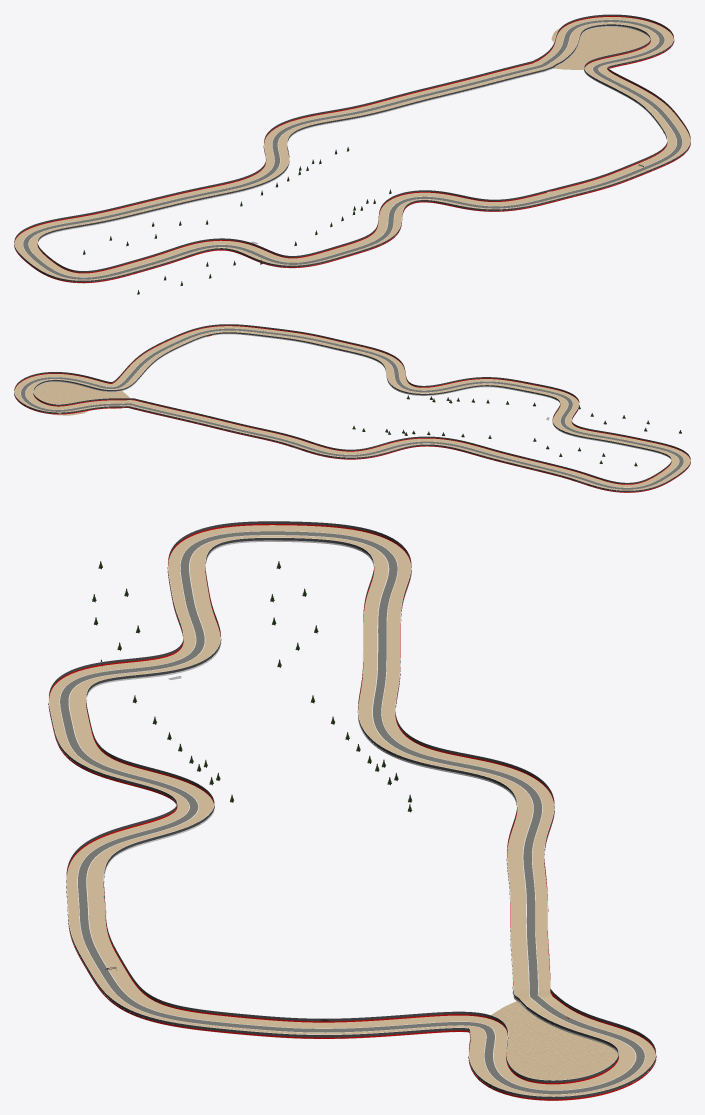
The model's file is fifth.fbx.
3 renders of one model, top to bottom at view 1: azimuth 30°, elevation 25°; view 2: azimuth 150°, elevation 25°; view 3: azimuth 270°, elevation 25°, orthographic. The views are drawn at different scales.
Visible parts, largest first — view 1: polySurface236, nurbsToPoly1; view 2: polySurface236, nurbsToPoly1; view 3: polySurface236, nurbsToPoly1.
Part boxes in pixels (bbox=[...]): polySurface236: bbox=[14, 14, 690, 283]; nurbsToPoly1: bbox=[551, 27, 650, 69]; polySurface236: bbox=[14, 324, 690, 492]; nurbsToPoly1: bbox=[33, 382, 129, 415]; polySurface236: bbox=[48, 521, 656, 1100]; nurbsToPoly1: bbox=[469, 1001, 617, 1080].
Size of the model in its own units: 158 by 1.13 by 70.47.
24 materials, 9 textured.
